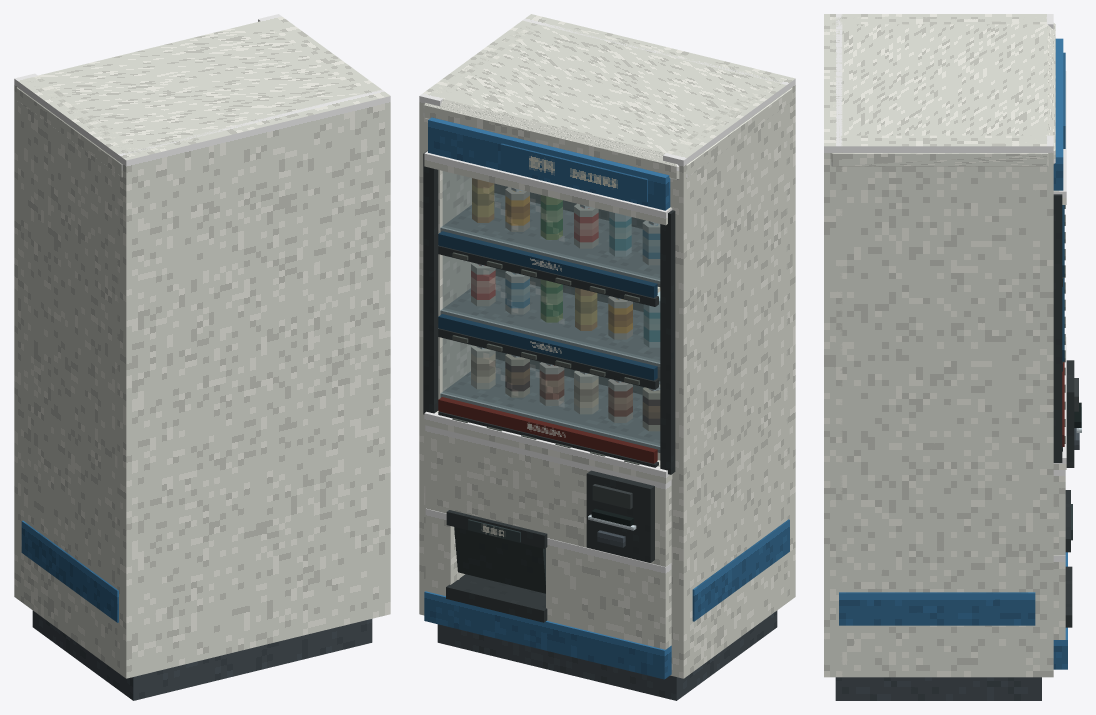
The model's file is f_vending_c_off.glb.
3 views of the same model, side by side, from view 1: azimuth 30°, elevation 25°; view 2: azimuth 150°, elevation 25°; view 3: azimuth 270°, elevation 25° (orthographic). The views are drawn at different scales.
Parts seen in each view (by area): view 1: block_enamel-back, block_enamel-side (×2), block_rounded-enamel-cap, block_recessed-kickplate, block_painted-side-stripe; view 2: block_enamel-side (×2), block_sample-glazing (×3), block_rounded-enamel-cap, block_lower-service-panel, block_right-lower-return, block_display-rebate (×2), block_painted-bottom-band, block_enamel-back, block_recessed-kickplate, block_sample-shelf-0, block_sample-shelf-1, block_sample-shelf-2 (+38 smaller); view 3: block_enamel-side (×2), block_rounded-enamel-cap, block_enamel-back, block_painted-side-stripe, block_recessed-kickplate, block_display-rebate, block_header-colour-band, block_lower-service-panel, block_left-lower-return, block_payment-face, block_painted-bottom-band, block_retrieval-frame-bottom (+2 smaller).
Boxes of the visible parts, x1,y1,x2,y2 form: block_enamel-back: [117, 89, 390, 678]; block_enamel-side (×2): [14, 14, 381, 671]; block_rounded-enamel-cap: [16, 21, 360, 177]; block_recessed-kickplate: [32, 610, 372, 700]; block_painted-side-stripe: [21, 520, 118, 622]; block_enamel-side (×2): [419, 20, 787, 678]; block_sample-glazing (×3): [442, 171, 660, 445]; block_rounded-enamel-cap: [423, 20, 792, 179]; block_lower-service-panel: [425, 425, 671, 566]; block_right-lower-return: [546, 538, 671, 649]; block_display-rebate (×2): [423, 150, 675, 474]; block_painted-bottom-band: [424, 591, 671, 679]; block_enamel-back: [522, 14, 795, 602]; block_recessed-kickplate: [437, 610, 777, 700]; block_sample-shelf-0: [440, 193, 660, 286]; block_sample-shelf-1: [440, 276, 660, 369]; block_sample-shelf-2: [440, 359, 660, 452]; block_enamel-side (×2): [840, 14, 1053, 677]; block_rounded-enamel-cap: [831, 17, 1055, 166]; block_enamel-back: [824, 14, 842, 677]; block_painted-side-stripe: [839, 592, 1035, 625]; block_recessed-kickplate: [835, 677, 1041, 700]; block_display-rebate: [1053, 194, 1062, 462]; block_header-colour-band: [1053, 38, 1063, 190]; block_lower-service-panel: [1053, 470, 1065, 555]; block_left-lower-return: [1053, 555, 1065, 639]; block_payment-face: [1066, 360, 1074, 467]; block_painted-bottom-band: [1053, 552, 1067, 669]; block_retrieval-frame-bottom: [1065, 566, 1072, 627].
Size of the model in its own units: 0.951 by 1.86 by 0.7745.
2 materials, 2 textured.
